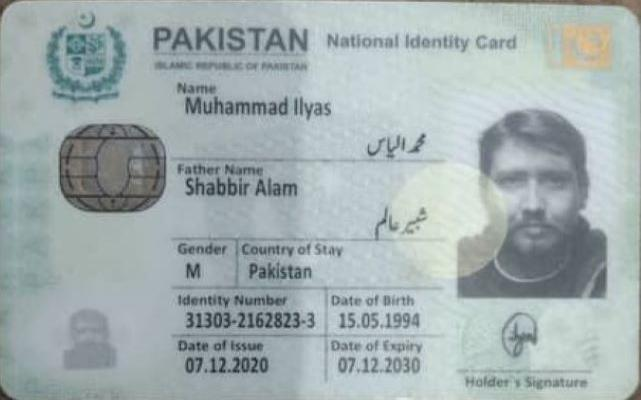fname: (182, 176, 302, 202)
name: (181, 92, 333, 124)
number: (181, 307, 318, 334)
